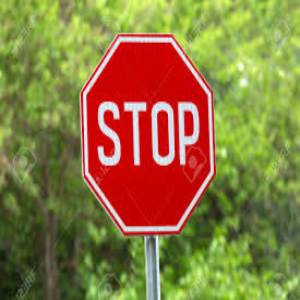STOP_SIGN: (78, 32, 217, 236)
